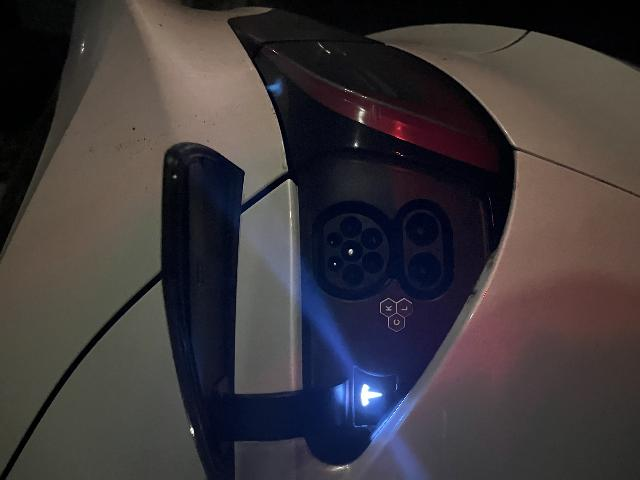inlet: (191, 324, 266, 389)
inlet-above-left: (208, 327, 224, 343)
inlet-above-right: (232, 326, 248, 342)
inlet-below-left: (206, 362, 229, 383)
inlet-below-right: (230, 361, 253, 383)
inlet-circle: (218, 341, 241, 363)
inlet-circle-left: (193, 341, 217, 365)
inlet-circle-right: (242, 340, 264, 362)
inlet-minus: (233, 406, 267, 438)
inlet-plus: (193, 407, 228, 442)
